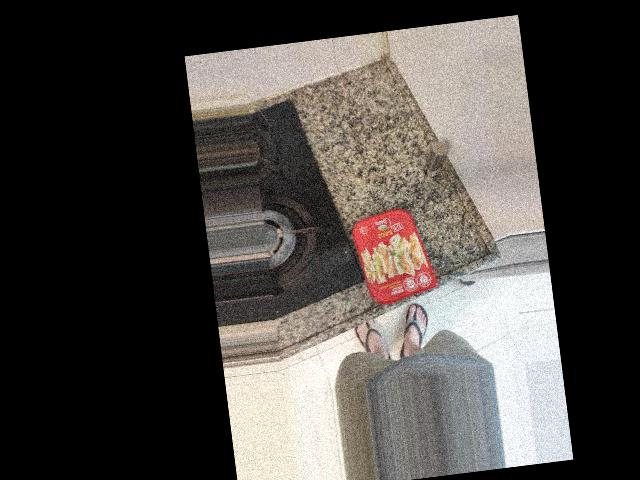cheese: (323, 108, 416, 231)
